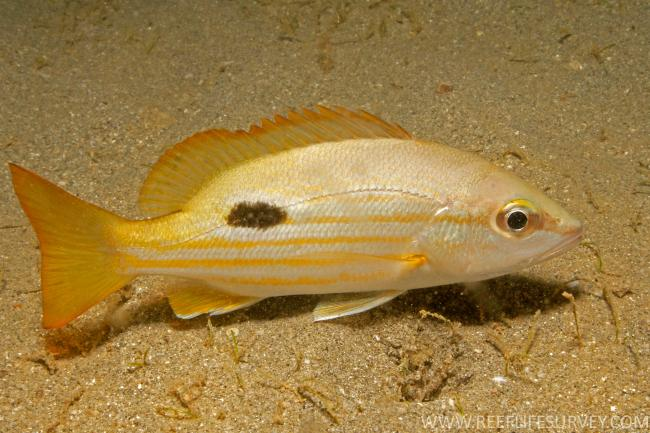fish: (8, 104, 583, 329)
